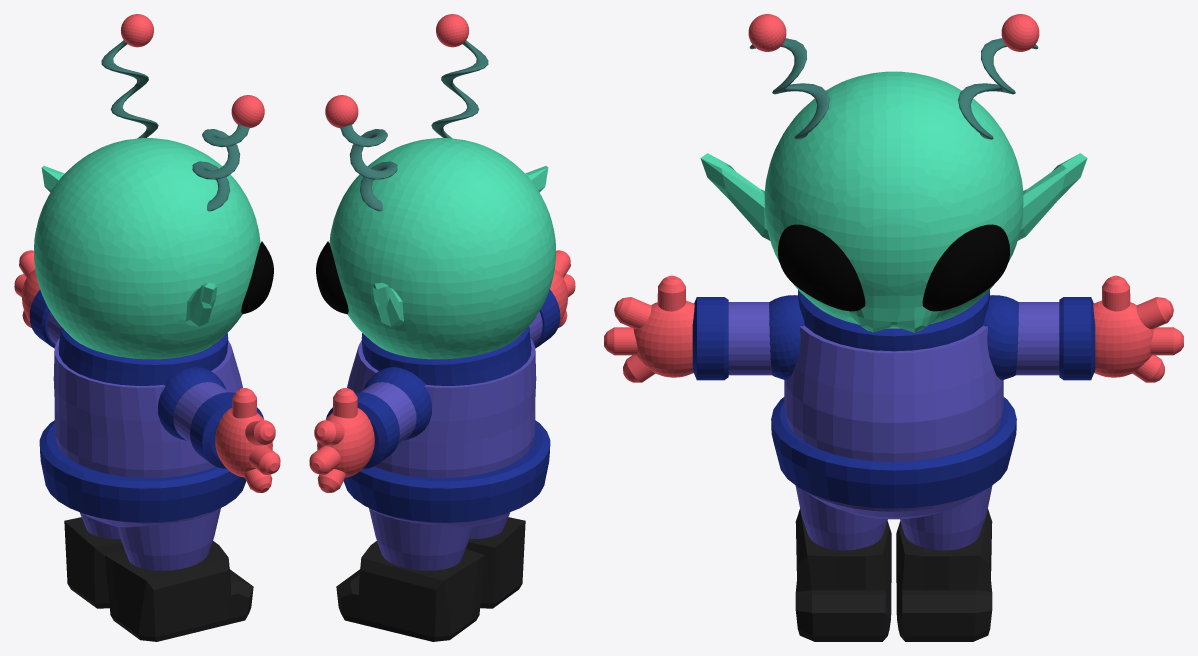
The model's file is smallAlien.fbx.
3 renders of one model, left to right at view 1: azimuth 30°, elevation 25°; view 2: azimuth 150°, elevation 25°; view 3: azimuth 270°, elevation 25°, orthographic. The views are drawn at different scales.
Visible parts, largest first — view 1: Head, Boots, Body, Waistband, Leggies, Neckband, Antenna, Fingies, Wristcuffs, HANDSS, AntenneBalls, Shoulders (+4 smaller); view 2: Head, Boots, Body, Waistband, Leggies, Neckband, Antenna, Fingies, Wristcuffs, HANDSS, AntenneBalls, Shoulders (+4 smaller); view 3: Head, Body, Boots, Waistband, Eye, HANDSS, Fingies, Leggies, Arms, Wristcuffs, Shoulders, Neckband (+4 smaller).
Part boxes in pixels (x1=…): Head: x1=34, y1=138, x2=260, y2=359; Boots: x1=64, y1=517, x2=253, y2=641; Body: x1=53, y1=338, x2=242, y2=477; Waistband: x1=39, y1=420, x2=246, y2=522; Leggies: x1=80, y1=508, x2=220, y2=570; Neckband: x1=58, y1=326, x2=228, y2=385; Antenna: x1=101, y1=40, x2=249, y2=211; Fingies: x1=14, y1=250, x2=280, y2=492; Wristcuffs: x1=29, y1=289, x2=263, y2=468; HANDSS: x1=22, y1=269, x2=272, y2=477; AntenneBalls: x1=120, y1=14, x2=264, y2=127; Shoulders: x1=158, y1=367, x2=226, y2=440; Head: x1=329, y1=138, x2=555, y2=359; Boots: x1=336, y1=517, x2=525, y2=641; Body: x1=347, y1=338, x2=536, y2=477; Waistband: x1=343, y1=420, x2=550, y2=522; Leggies: x1=369, y1=508, x2=509, y2=570; Neckband: x1=361, y1=326, x2=531, y2=385; Antenna: x1=340, y1=40, x2=488, y2=211; Fingies: x1=309, y1=250, x2=575, y2=492; Wristcuffs: x1=326, y1=289, x2=560, y2=468; HANDSS: x1=317, y1=269, x2=567, y2=477; AntenneBalls: x1=325, y1=14, x2=469, y2=127; Shoulders: x1=363, y1=367, x2=431, y2=440; Head: x1=764, y1=71, x2=1023, y2=332; Body: x1=784, y1=326, x2=1003, y2=461; Boots: x1=795, y1=509, x2=992, y2=641; Waistband: x1=771, y1=397, x2=1016, y2=508; Eye: x1=777, y1=224, x2=1010, y2=311; HANDSS: x1=633, y1=300, x2=1154, y2=377; Fingies: x1=604, y1=275, x2=1183, y2=382; Leggies: x1=795, y1=486, x2=992, y2=550; Arms: x1=728, y1=302, x2=1059, y2=375; Wristcuffs: x1=692, y1=297, x2=1095, y2=380; Shoulders: x1=769, y1=295, x2=1018, y2=379; Neckband: x1=798, y1=290, x2=989, y2=351.
Size of the model in its own units: 129 by 337 by 288.
